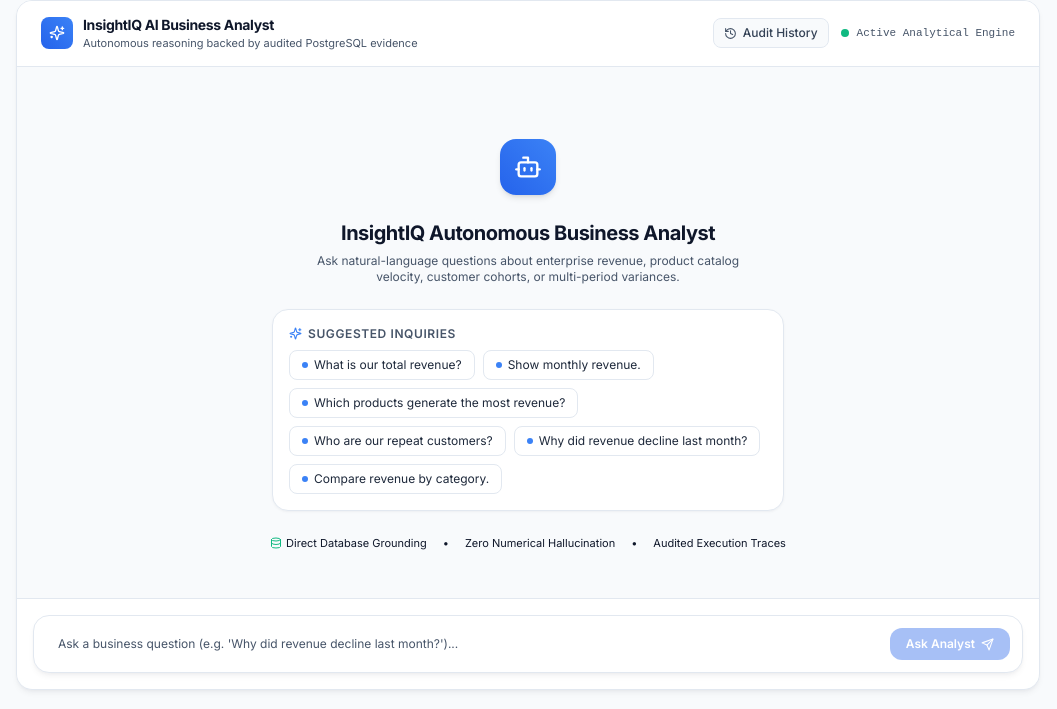
Test: AnalystPage Integration View › submits inquiry, renders user query and verified assistant response
Replace the text in the field with placeholder "Ask a business question" with "What is our total revenue?" at x=464, y=644, box [46,628,882,660]
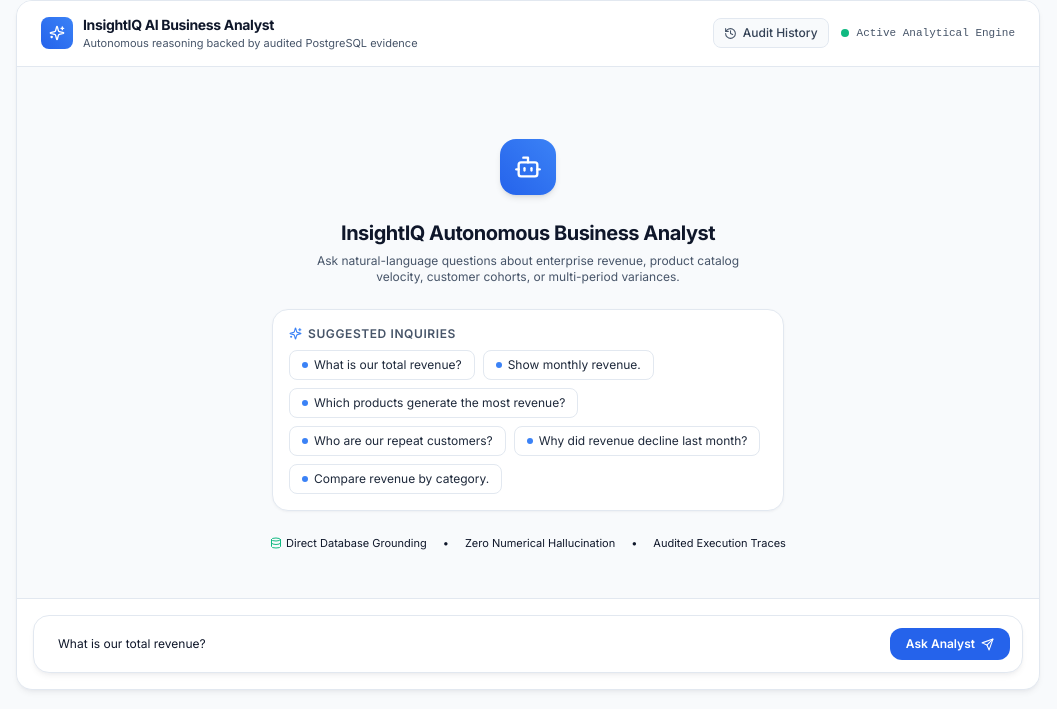
Click the button with aria-label "Send inquiry" at x=950, y=644, box [890,628,1010,660]
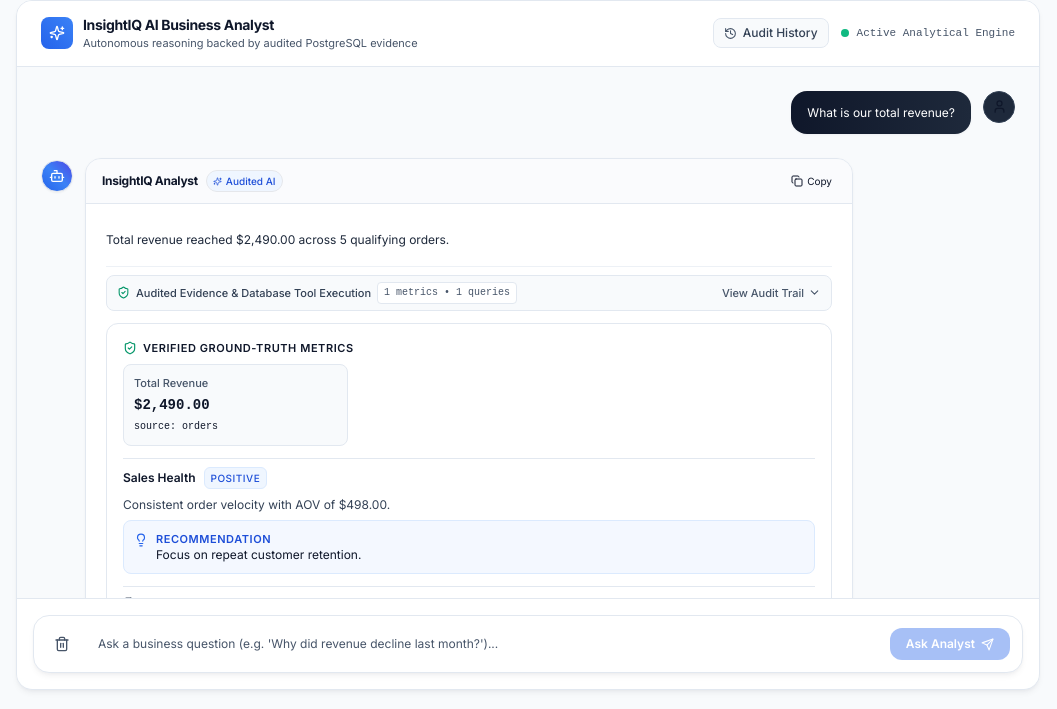
expect the element with test id "chat-message-assistant" is shown: met, box [41,158,853,598]
expect the text "Total revenue reached $2,490.00 across 5 qualifying orders." is shown: met, box [106,232,449,247]
expect the text "$2,490.00" is shown: met, box [134,396,210,412]
